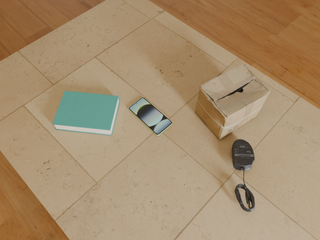book: (53, 91, 120, 135)
box: (195, 64, 270, 139)
mouse: (232, 139, 255, 171)
phone: (129, 98, 172, 136)
